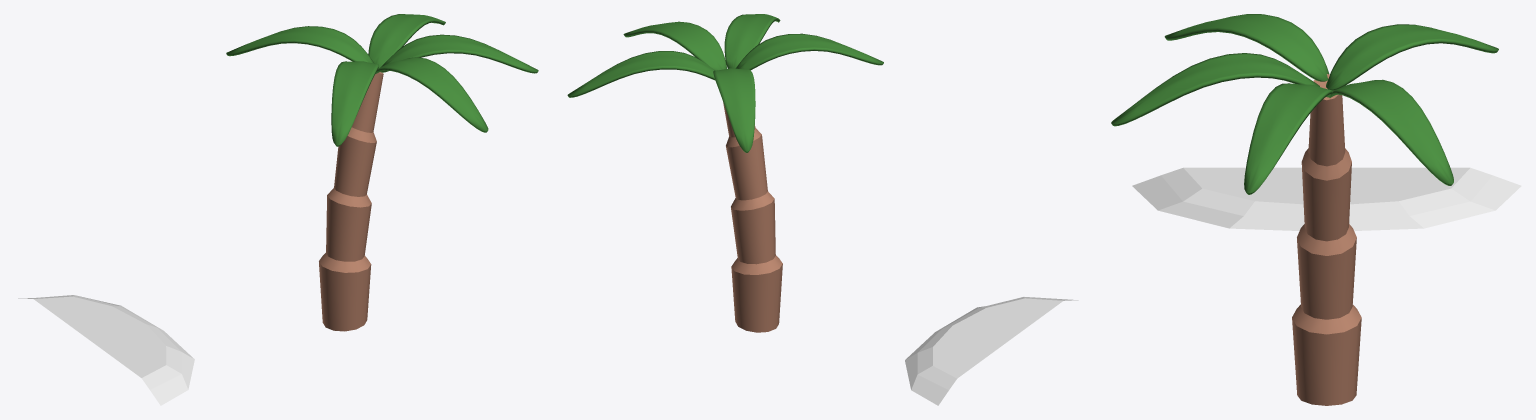
Rendered from Kumsal.fbx.
3 renders of one model, left to right at view 1: azimuth 30°, elevation 25°; view 2: azimuth 150°, elevation 25°; view 3: azimuth 270°, elevation 25°, orthographic. The views are drawn at different scales.
Visible parts, largest first — view 1: Cylinder.001, Cylinder, Plane.003, Plane.004, Plane, Plane.002, Plane.001; view 2: Cylinder.001, Cylinder, Plane, Plane.001, Plane.004, Plane.002, Plane.003; view 3: Cylinder, Cylinder.001, Plane.001, Plane.002, Plane.003, Plane, Plane.004.
Boxes of the visible parts, <box> form: Cylinder.001: <box>319,72,383,331</box>; Cylinder: <box>18,295,194,405</box>; Plane.003: <box>375,57,488,132</box>; Plane.004: <box>331,61,378,146</box>; Plane: <box>226,26,374,63</box>; Plane.002: <box>381,34,538,73</box>; Plane.001: <box>368,14,445,68</box>; Cylinder.001: <box>723,102,782,332</box>; Cylinder: <box>905,297,1078,405</box>; Plane: <box>713,68,755,152</box>; Plane.001: <box>567,51,715,97</box>; Plane.004: <box>735,33,883,70</box>; Plane.002: <box>623,21,726,70</box>; Plane.003: <box>724,14,780,68</box>; Cylinder: <box>1132,167,1521,230</box>; Cylinder.001: <box>1292,74,1361,405</box>; Plane.001: <box>1329,79,1453,185</box>; Plane.002: <box>1244,83,1332,194</box>; Plane.003: <box>1111,53,1319,126</box>; Plane: <box>1326,24,1498,90</box>; Plane.004: <box>1164,14,1329,81</box>.
Size of the model in its own units: 1458 by 902 by 925.
